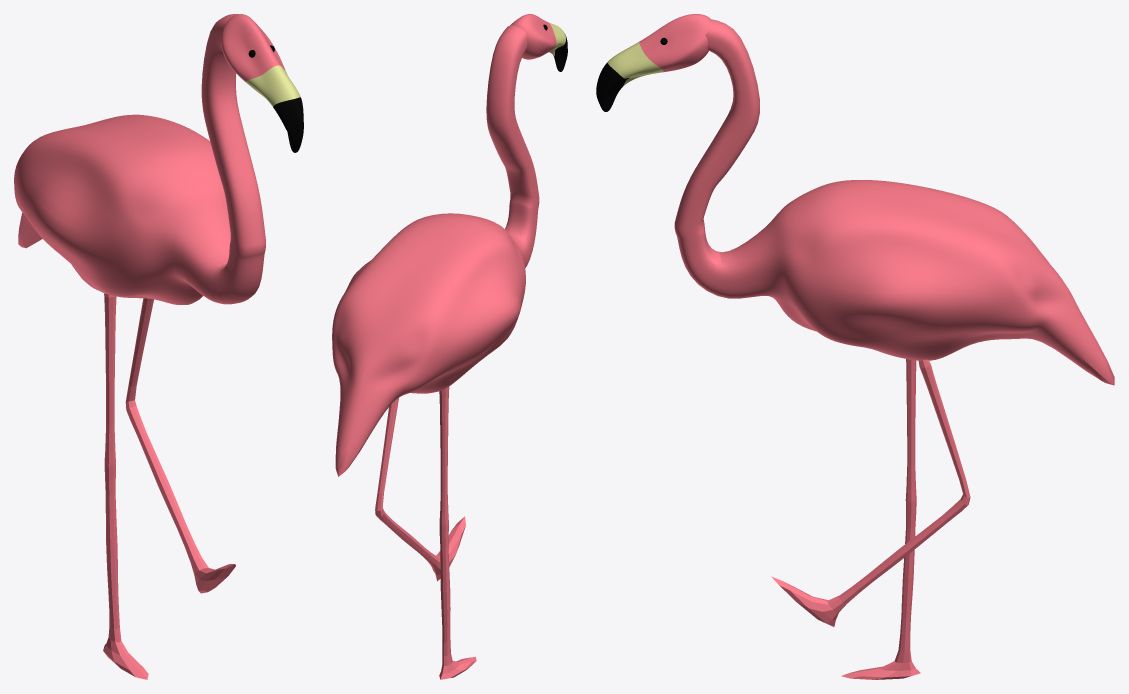
File: Flamingo.fbx
3 views of the same model, side by side, from view 1: azimuth 30°, elevation 25°; view 2: azimuth 150°, elevation 25°; view 3: azimuth 270°, elevation 25° (orthographic). The views are drawn at different scales.
Parts seen in each view (by area): view 1: Cube.002; view 2: Cube.002; view 3: Cube.002.
Part boxes in pixels (<box>): Cube.002: <box>14,14,303,679</box>; Cube.002: <box>332,14,567,679</box>; Cube.002: <box>596,14,1114,679</box>.
Bounding box in the file's own units: 37.26 × 135 × 94.52.
